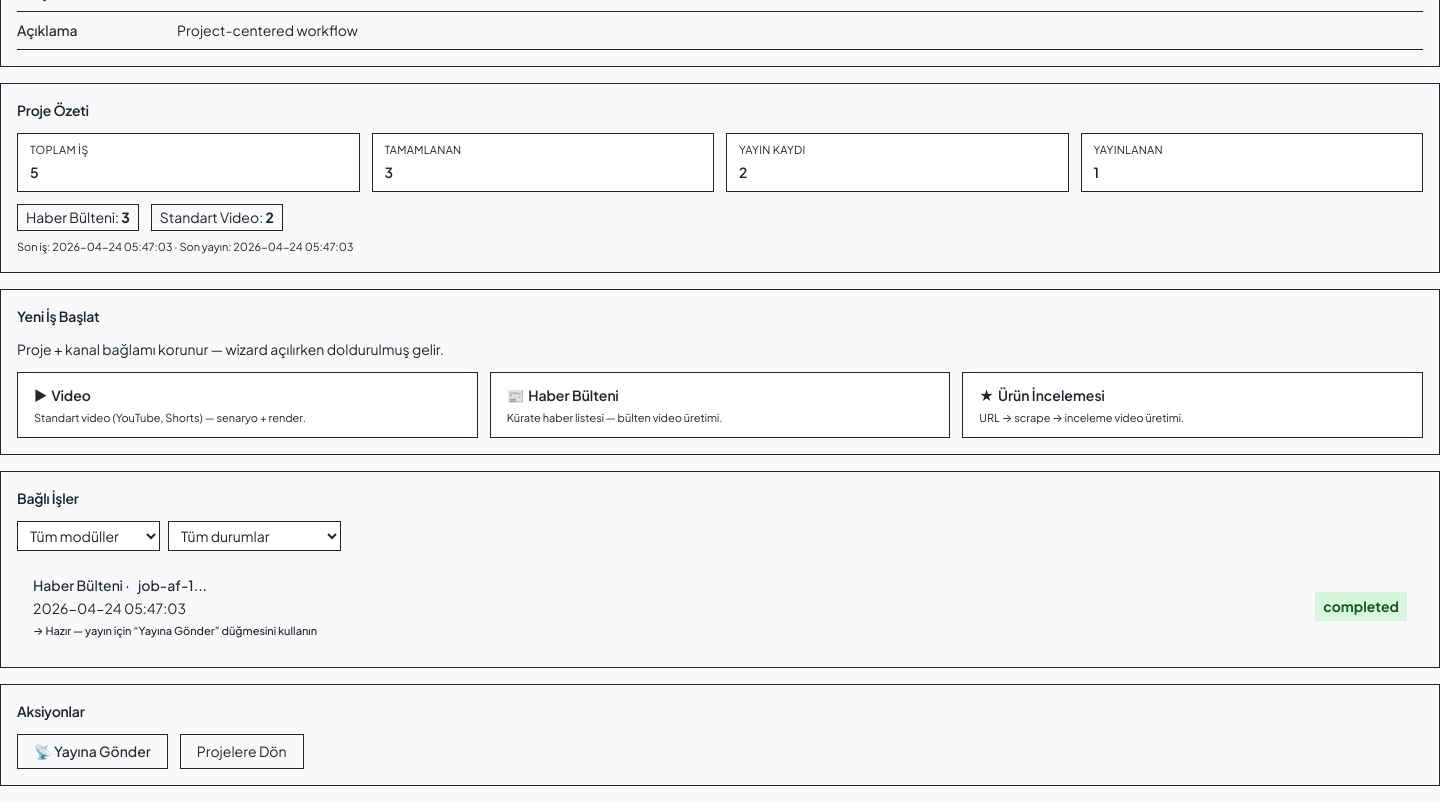
PHASE AF — project-centered workflow surface › renders jobs filter controls (module + status + clear)
The image size is (1440, 802).
(page scrolled)
Check: the element with test id "project-jobs-filter" is shown, box [17, 521, 341, 551]
Check: the dropdown with test id "project-jobs-filter-status" is shown, box [168, 521, 341, 551]
Select "Haber Bülteni" in the dropdown with test id "project-jobs-filter-module": [88, 536] box [17, 521, 160, 551]
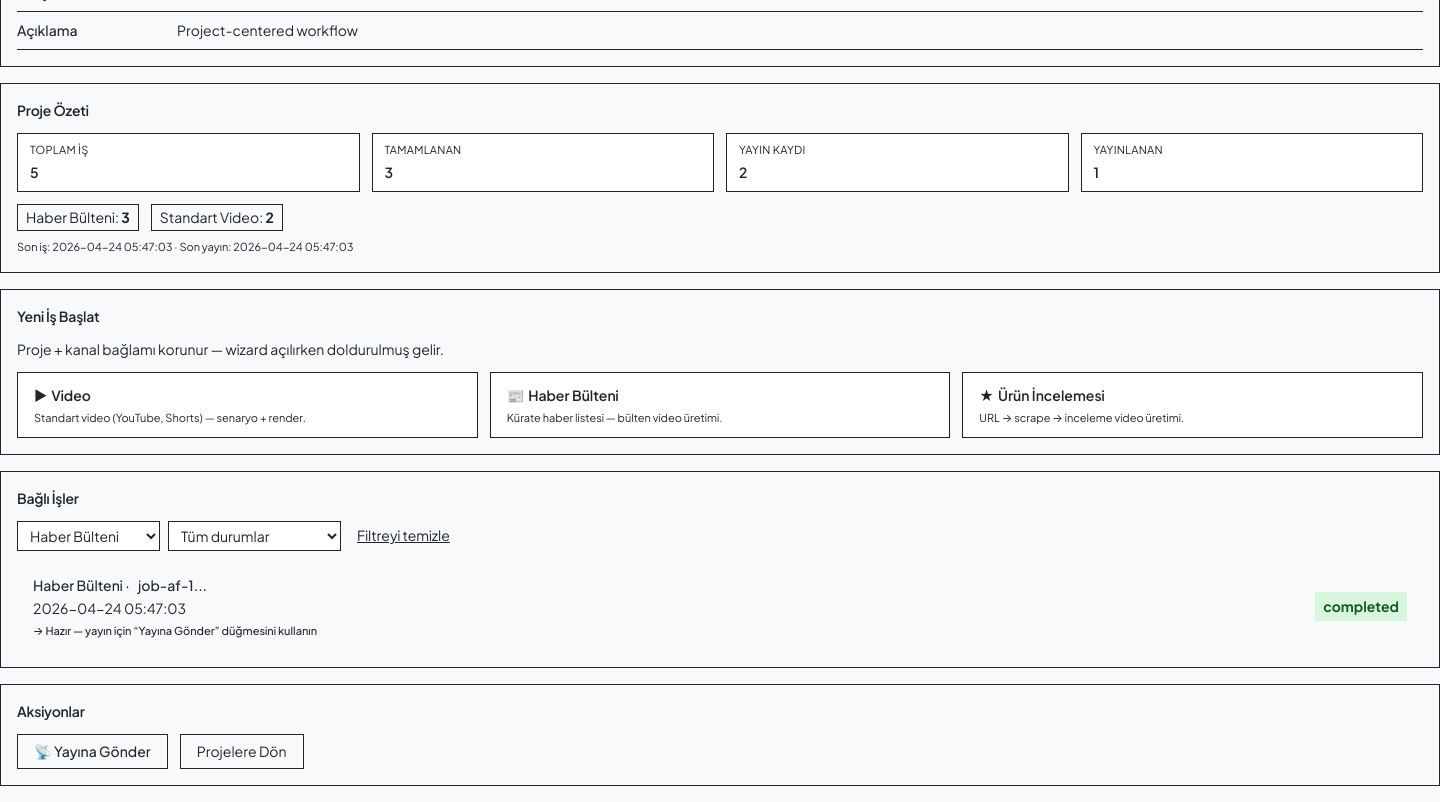
Check: the button with test id "project-jobs-filter-clear" is shown, box [349, 521, 458, 551]
